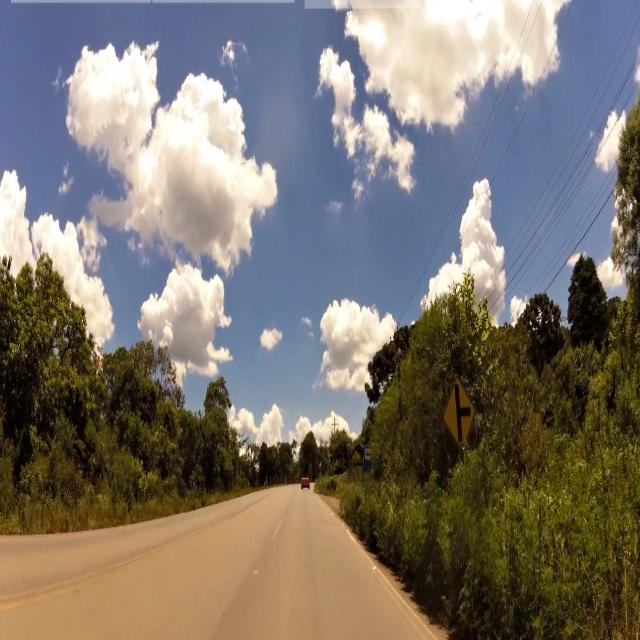A-7b: (441, 370, 477, 451)
